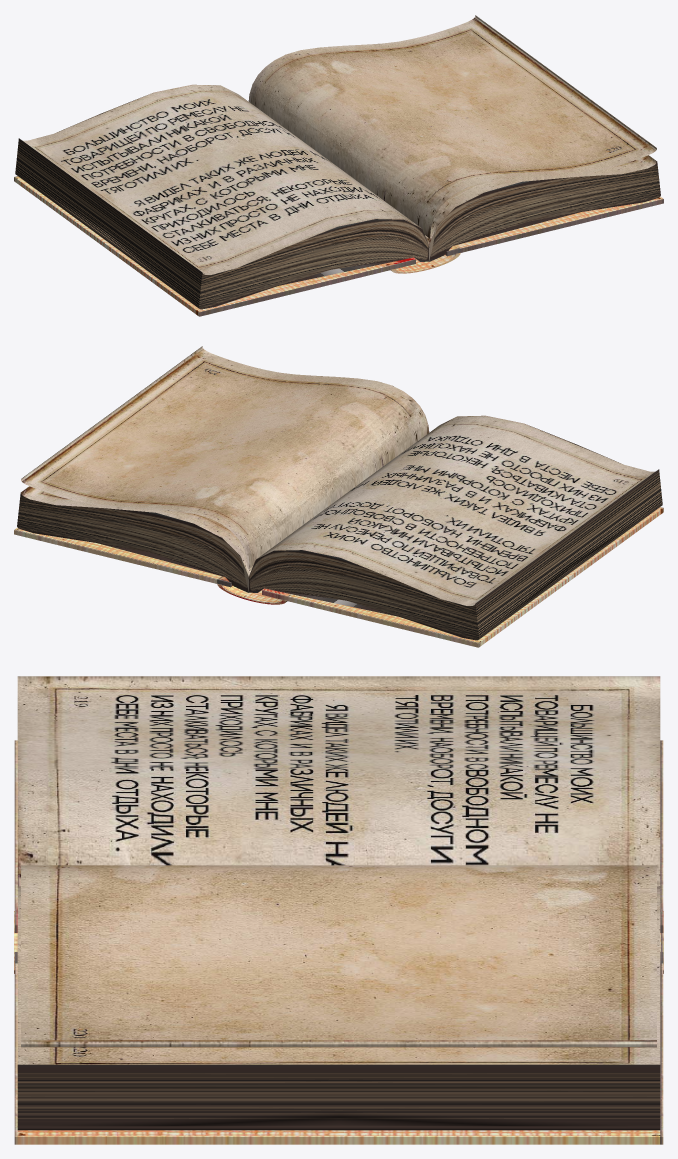
File: BookSanuzelShriftNorm.FBX
3 renders of one model, top to bottom at view 1: azimuth 30°, elevation 25°; view 2: azimuth 150°, elevation 25°; view 3: azimuth 270°, elevation 25°, orthographic. The views are drawn at different scales.
Parts seen in each view (by area): view 1: Group171, Box008; view 2: Group171, Box008; view 3: Group171, Box008.
Part boxes in pixels (x1,y1,x2,y2): Group171: (14,15,663,316); Box008: (15,96,660,309); Group171: (14,346,663,647); Box008: (17,427,662,640); Group171: (14,676,663,1144); Box008: (17,1065,660,1130).
Size of the model in its own units: 44.5 by 6.53 by 30.8.
Materials: 3 (3 with a texture image).
